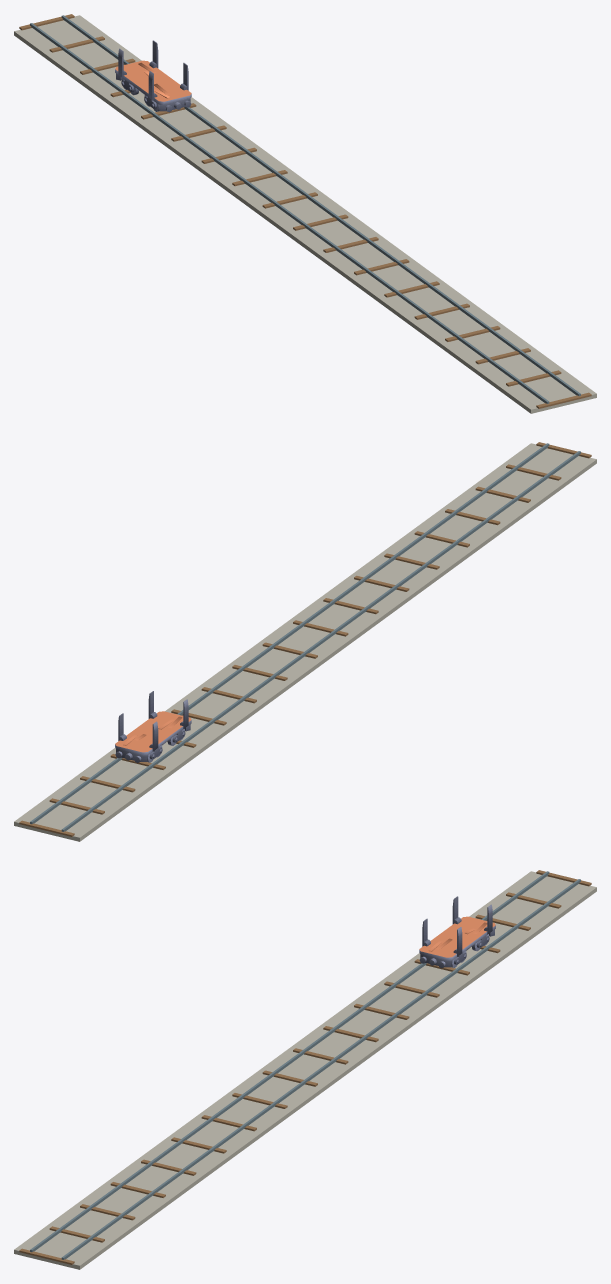
Rendered from railway-2-2.glb.
The picture shows the model from 3 angles, top to bottom: view 1: azimuth 30°, elevation 25°; view 2: azimuth 150°, elevation 25°; view 3: azimuth 330°, elevation 25°; orthographic projection.
Parts seen in each view (by area): view 1: railway-2-2; view 2: railway-2-2; view 3: railway-2-2.
Boxes of the visible parts, x1=… form: railway-2-2: x1=14, y1=14, x2=596, y2=413; railway-2-2: x1=14, y1=442, x2=596, y2=841; railway-2-2: x1=14, y1=870, x2=596, y2=1269.
Bounding box in the file's own units: 5 × 3.5 × 68.35.
Materials: 6 (3 with a texture image).
